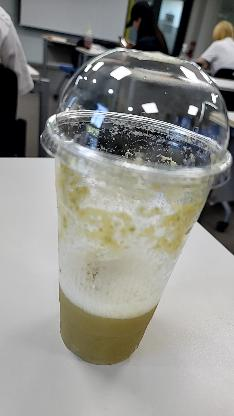Plastic Cup: (38, 46, 234, 366), (36, 46, 234, 190)
